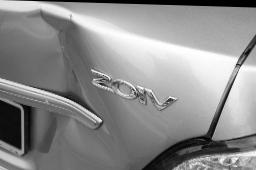Dickey: (21, 2, 132, 154)
